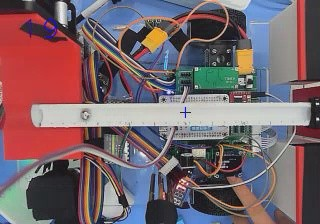ironball: (78, 109, 90, 121)
